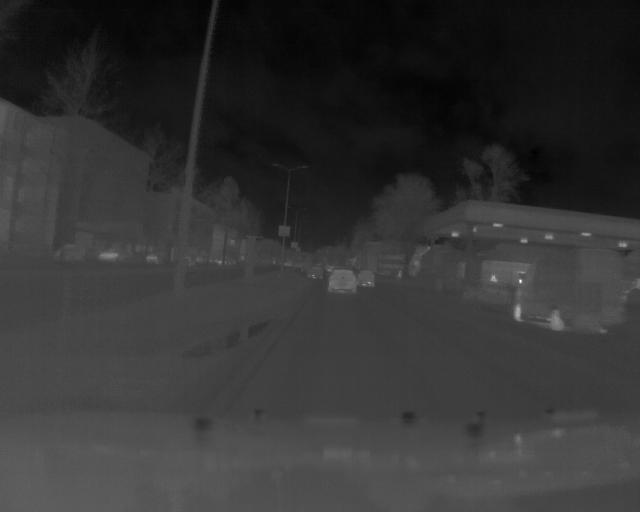car: (509, 248, 628, 335), (326, 268, 356, 294), (355, 270, 377, 290)
